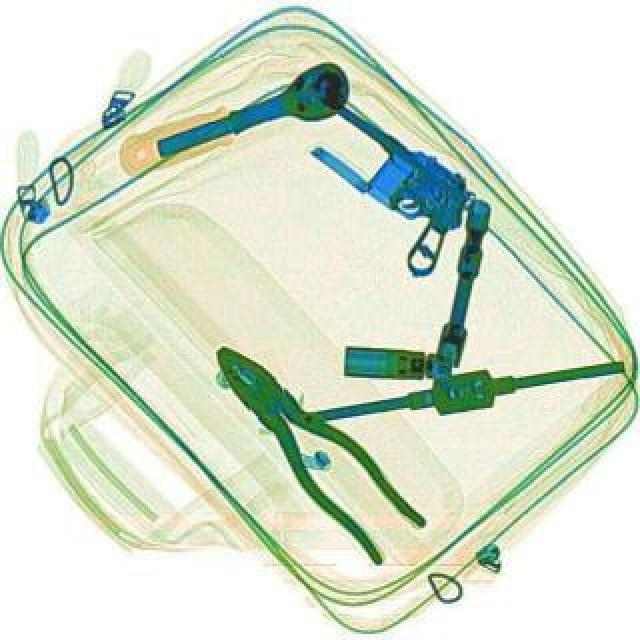gun: (258, 78, 496, 280)
wrench: (188, 326, 432, 566)
